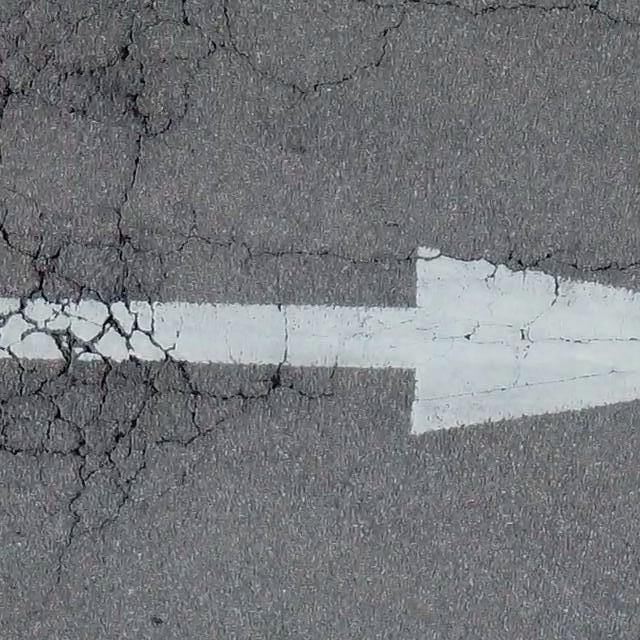GRIETA: (239, 19, 401, 94), (412, 0, 619, 24)
PIEL DE COCODRILO: (0, 0, 639, 545)
